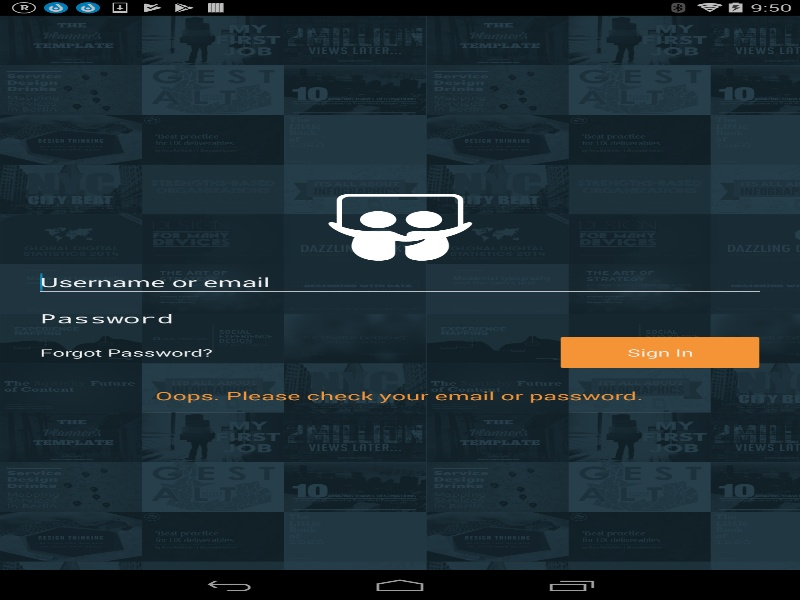Button: (560, 337, 760, 368)
Input: (40, 309, 760, 327), (40, 273, 760, 290)
